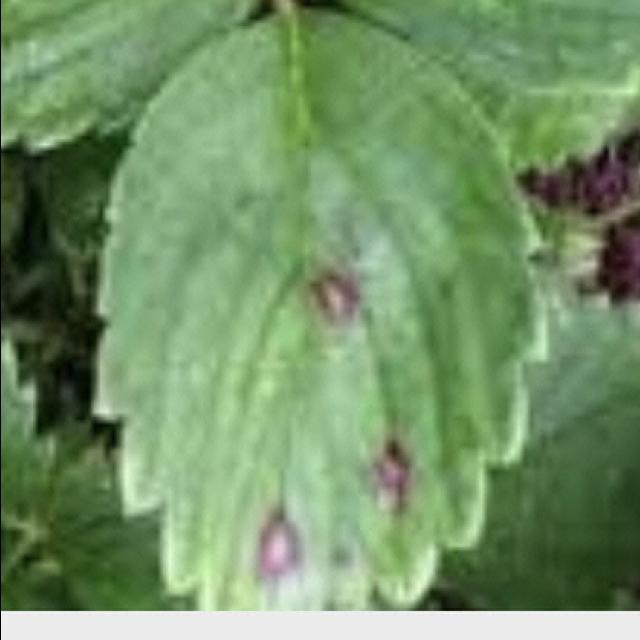Leaf Spot: (90, 8, 551, 614)
